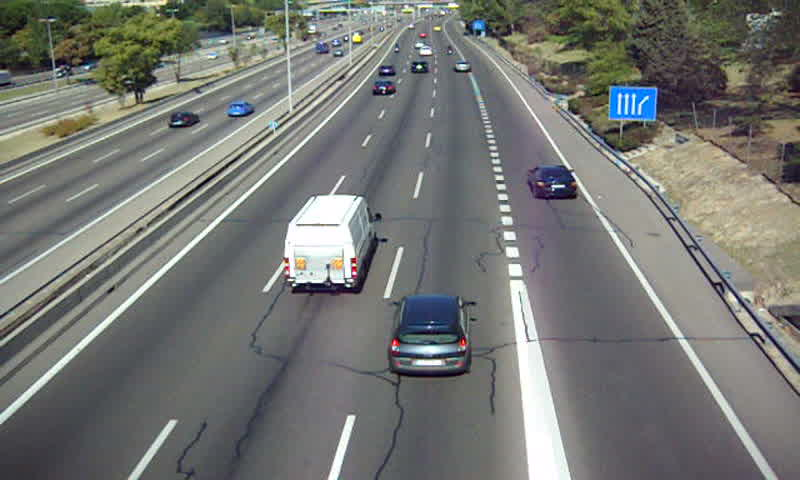car: (389, 294, 469, 377), (528, 167, 576, 199), (371, 80, 395, 98), (376, 63, 397, 77), (409, 60, 428, 74), (452, 60, 472, 72)
van: (284, 196, 380, 293)
